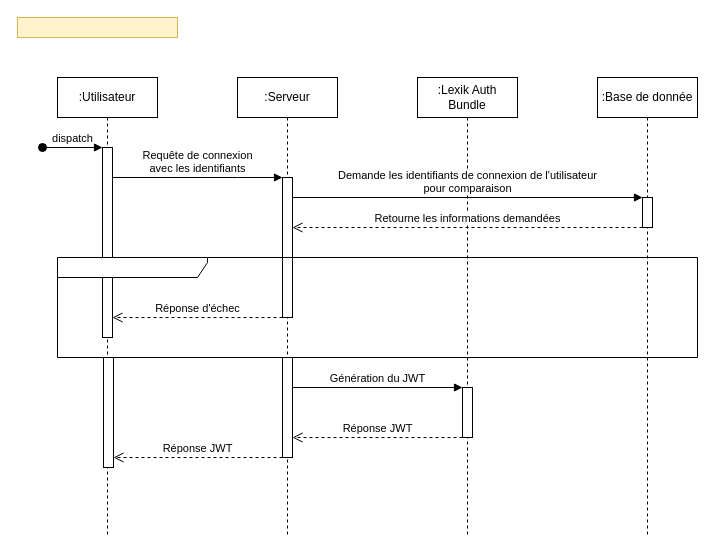
Image size: 715x555. Some labels were removed from this diagram. The box of each missing label's shape, as (x1, y1, x2, y2) in pixels:
Authentification: (16, 16, 178, 38)
Identifiants invalides: (56, 256, 698, 358)
